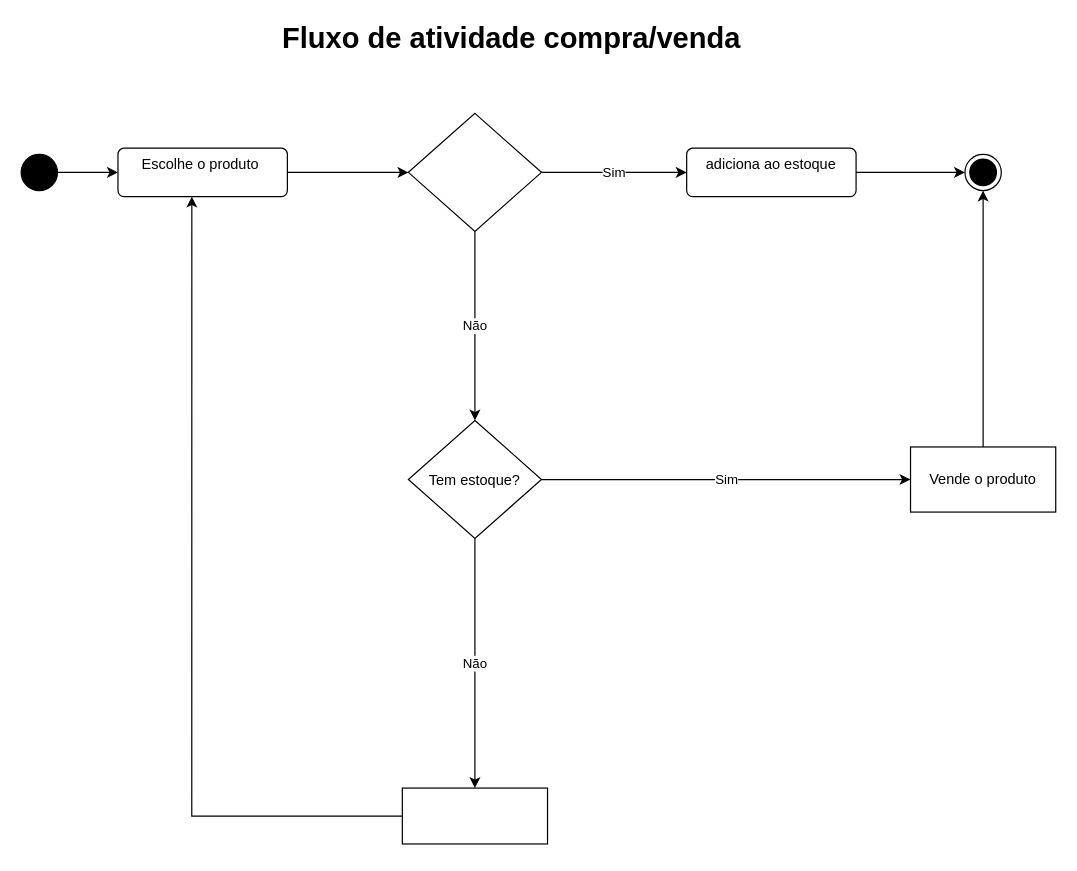
Image size: 1077x871. Some labels were removed from this diagram. Here are the shapes that lost their labels. From the top down, the centre of each, then its label:
the point at 474,171: É uma compra?
the point at 474,815: Retorna mensagem
